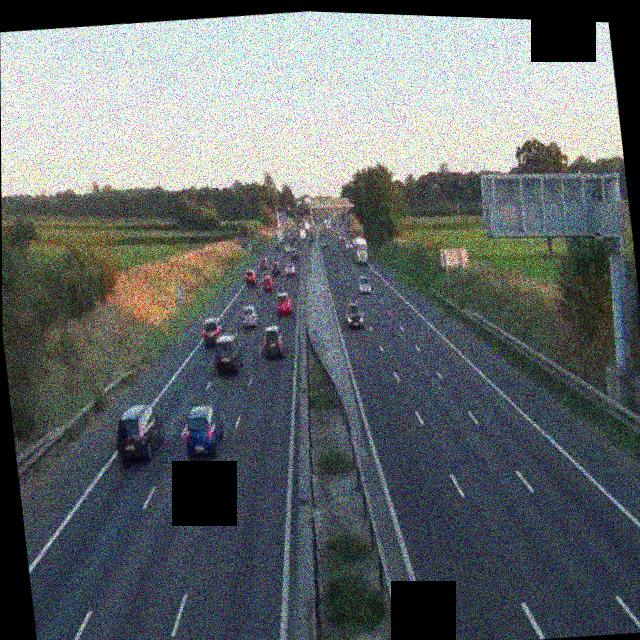car: (111, 401, 166, 465), (180, 402, 226, 460), (211, 332, 244, 376), (259, 324, 285, 359), (200, 316, 226, 348), (344, 299, 364, 329), (240, 304, 258, 328), (275, 291, 291, 315), (356, 274, 372, 295), (242, 268, 257, 285), (261, 273, 275, 290), (286, 262, 297, 277), (271, 259, 281, 274), (317, 236, 325, 248)
truck: (350, 232, 367, 264), (297, 224, 306, 239)
